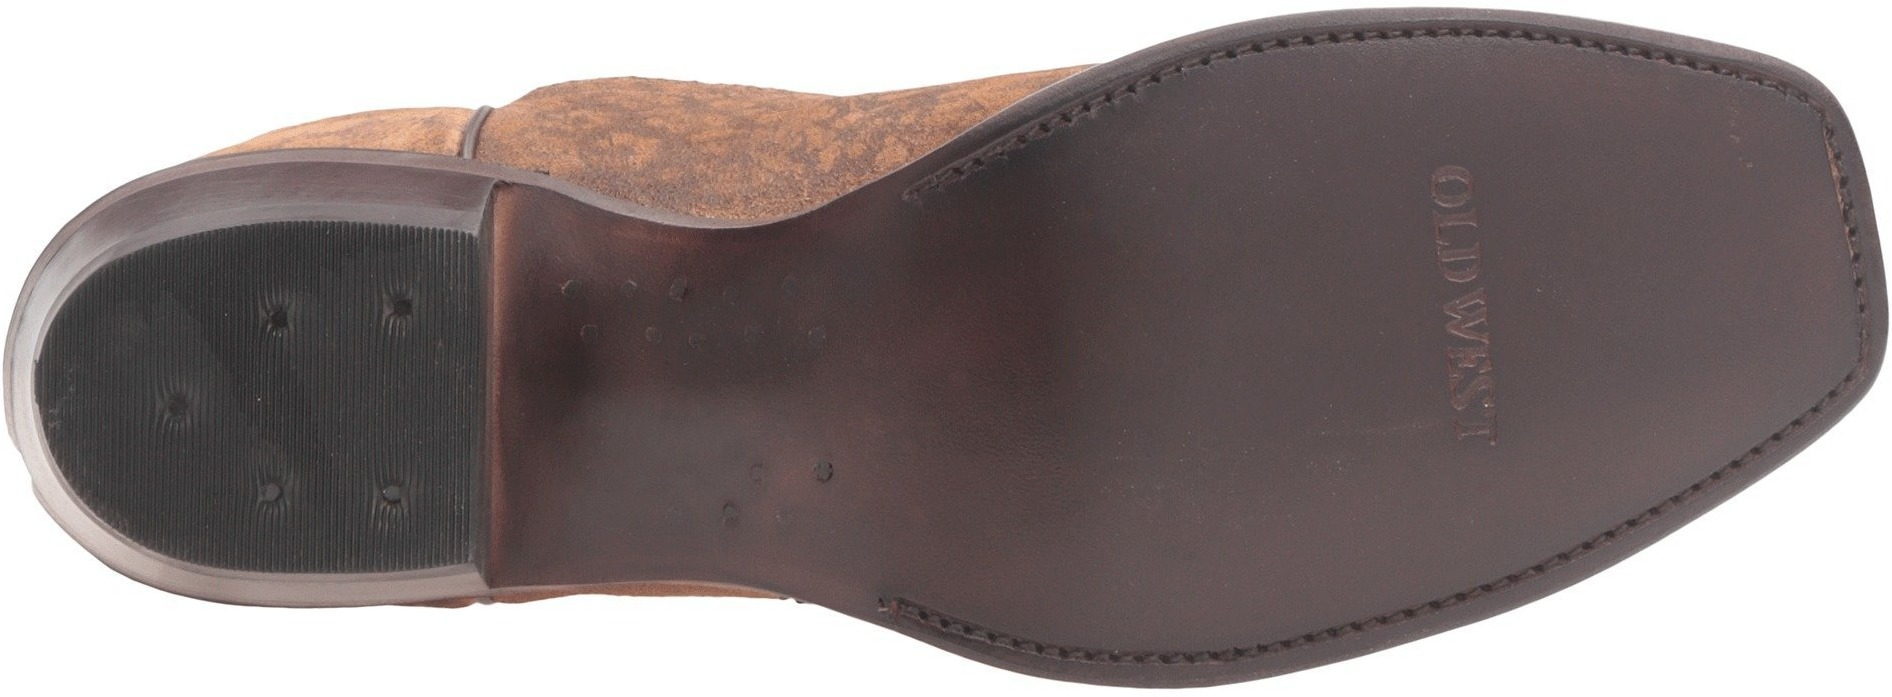circle: (245, 292, 299, 339), (373, 471, 415, 525), (249, 468, 291, 519), (159, 374, 200, 421), (383, 281, 417, 330)
other: (740, 68, 1849, 635), (43, 219, 478, 581)
